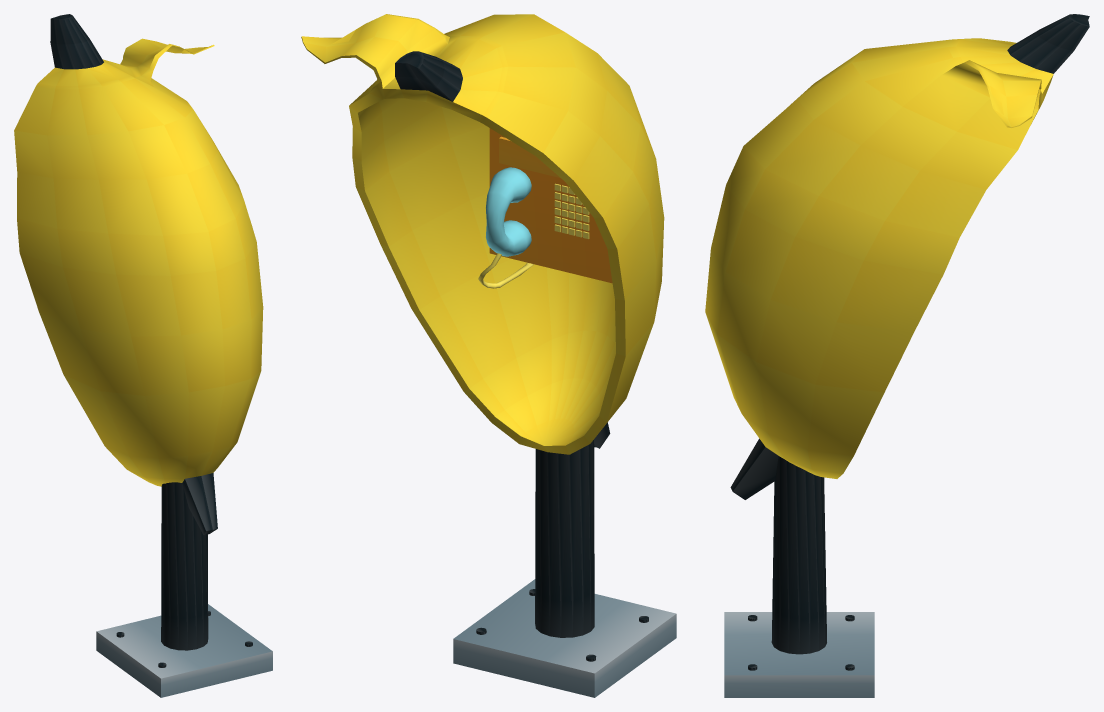
The model's file is Orelhao.fbx.
3 renders of one model, left to right at view 1: azimuth 30°, elevation 25°; view 2: azimuth 150°, elevation 25°; view 3: azimuth 270°, elevation 25°, orthographic. The views are drawn at different scales.
Visible parts, largest first — view 1: OrelhaoBanana; view 2: OrelhaoBanana; view 3: OrelhaoBanana.
Part boxes in pixels (box(x1,y1,x2,y2)): OrelhaoBanana: box(14, 14, 272, 697); OrelhaoBanana: box(301, 14, 676, 697); OrelhaoBanana: box(705, 14, 1089, 697).
Bounding box in the file's own units: 154 × 368 × 197.
